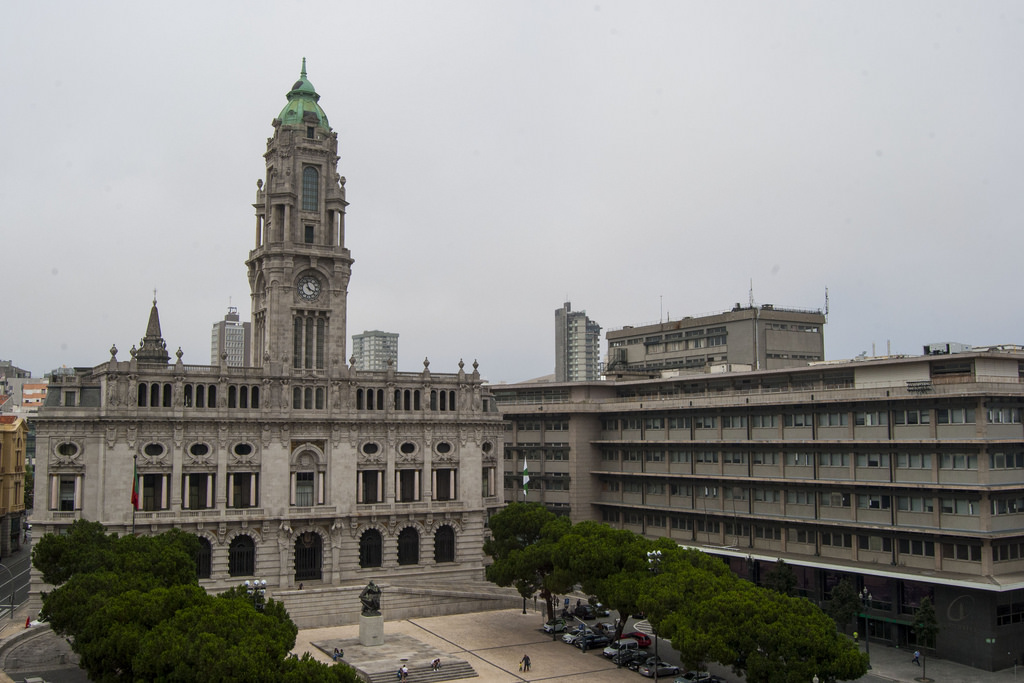camara: (25, 55, 516, 626)
